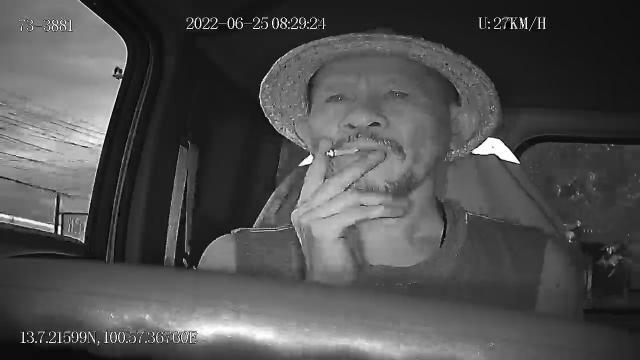SafeDriving: (321, 83, 356, 110), (380, 78, 415, 104)
Smoking: (324, 145, 360, 157)
